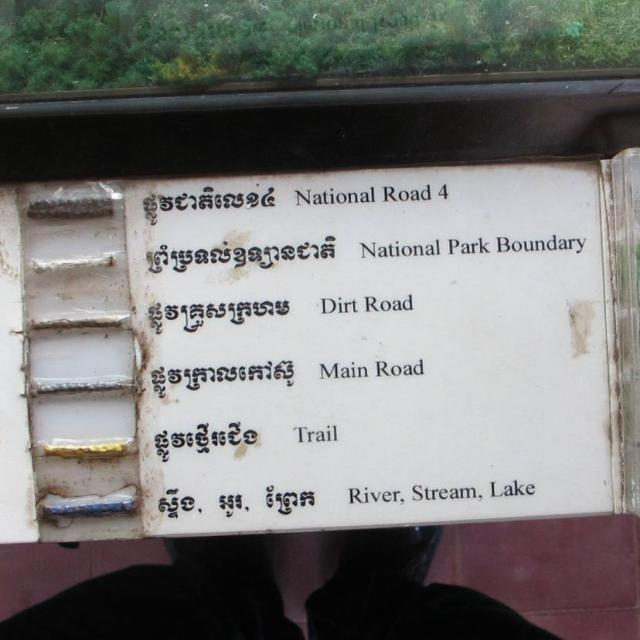2: (150, 483, 326, 525)
Yolov11_80vkh: (141, 232, 342, 282), (148, 356, 299, 404), (150, 411, 268, 468), (144, 293, 294, 337), (144, 181, 280, 224)
